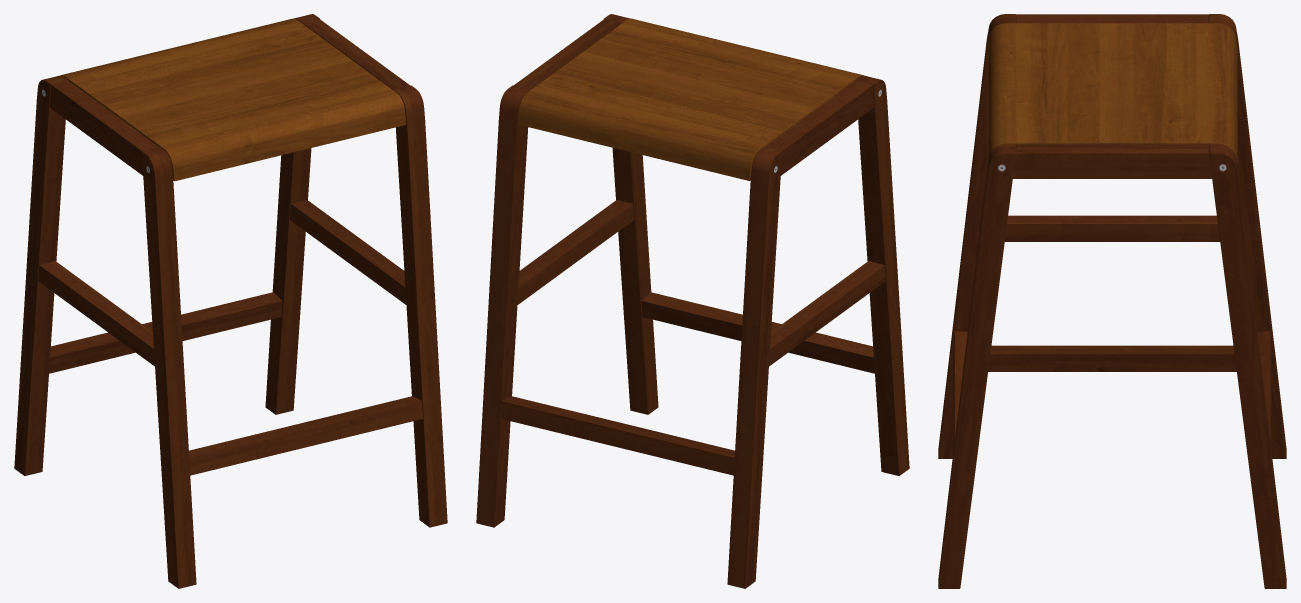
Rendered from chairs.fbx.
The picture shows the model from 3 angles, left to right: view 1: azimuth 30°, elevation 25°; view 2: azimuth 150°, elevation 25°; view 3: azimuth 270°, elevation 25°; orthographic projection. The views are drawn at different scales.
Parts seen in each view (by area): view 1: chair_44; view 2: chair_44; view 3: chair_44.
Part boxes in pixels (x1,y1,x2,y2): chair_44: (14, 14, 447, 588); chair_44: (476, 14, 909, 588); chair_44: (938, 14, 1286, 588).
Bounding box in the file's own units: 41.05 × 59.83 × 43.29.
1 material, 1 textured.
